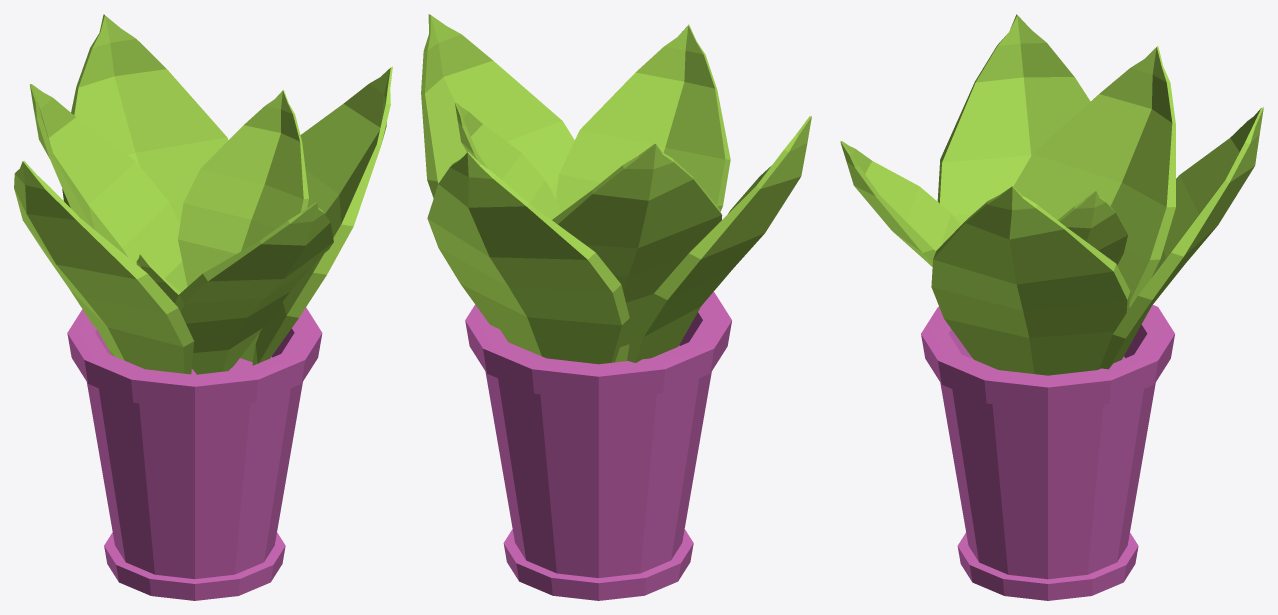
The model's file is BigPlant.fbx.
The picture shows the model from 3 angles, left to right: view 1: azimuth 30°, elevation 25°; view 2: azimuth 150°, elevation 25°; view 3: azimuth 270°, elevation 25°; orthographic projection. The views are drawn at different scales.
Visible parts, largest first — view 1: BigPlant; view 2: BigPlant; view 3: BigPlant.
Part boxes in pixels (x1=…): BigPlant: x1=14, y1=14, x2=392, y2=600; BigPlant: x1=421, y1=14, x2=811, y2=600; BigPlant: x1=840, y1=14, x2=1263, y2=600.
Bounding box in the file's own units: 500 × 605 × 500.
